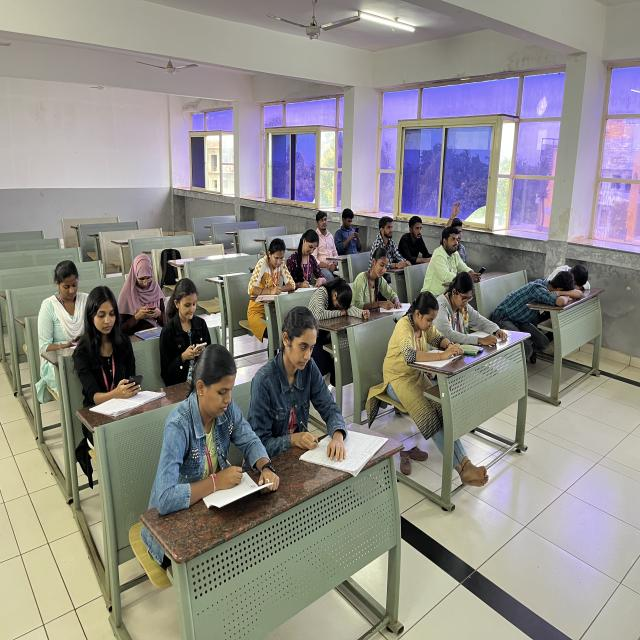Hand Rising: (447, 191, 478, 265)
Reading: (386, 280, 458, 383), (429, 268, 519, 349), (353, 242, 409, 324)
Sleeping: (497, 262, 579, 324), (301, 270, 370, 341)
Using Phone: (71, 272, 156, 419), (33, 246, 101, 389), (154, 270, 218, 385), (115, 236, 175, 346), (429, 223, 485, 284), (554, 234, 594, 295), (332, 196, 365, 256)
Writing: (142, 338, 266, 509), (250, 310, 374, 477), (236, 226, 294, 322), (290, 228, 332, 294)
